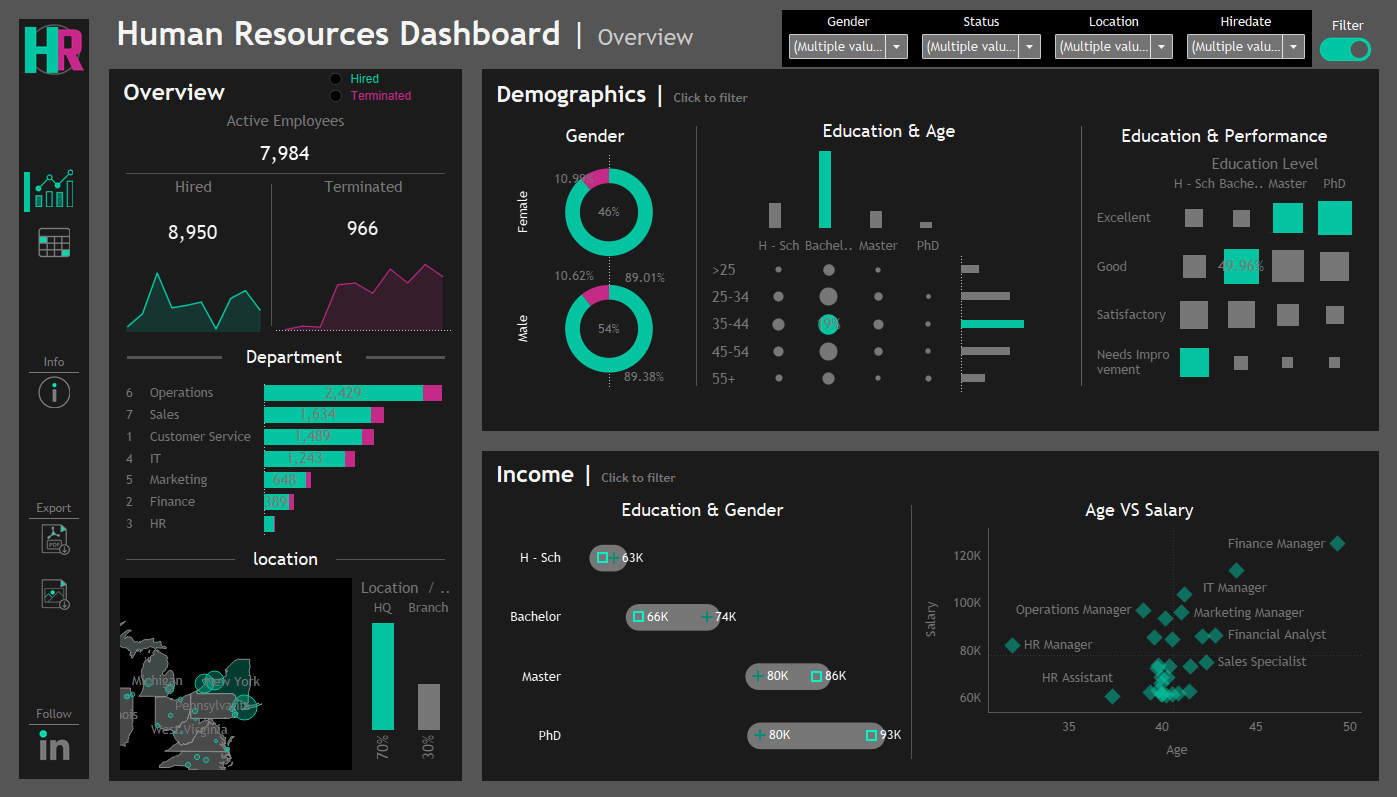

The page's visual inventory and layout, read from the dashboard file:
{"tool":"tableau","page":{"name":"HR | Dash Board ","canvas":[1400,800],"ordinal":0},"visuals":[{"type":"blank","box":[93,0,1305,216]},{"type":"text","box":[110,0,683,70]},{"type":"blank","box":[793,0,587,70]},{"type":"filter","title":"Gander vs Education","param":"[federated.0bgmnje15hprr71agptte040bgvo].[none:Gender:nk]","box":[783,11,133,57]},{"type":"filter","title":"Gander vs Education","param":"[federated.0bgmnje15hprr71agptte040bgvo].[none:Calculation_571957185363922944:nk","box":[916,11,133,57]},{"type":"filter","title":"Gander vs Education","param":"[federated.0bgmnje15hprr71agptte040bgvo].[none:Calculation_314689055595626501:nk","box":[1049,11,132,57]},{"type":"filter","title":"Gander vs Education","param":"[federated.0bgmnje15hprr71agptte040bgvo].[yr:Hiredate:ok]","box":[1181,11,132,57]},{"type":"text","box":[1299,12,100,30]},{"type":"image","param":"Image/Logo.png","box":[20,20,70,60]},{"type":"dashboard-object","box":[1320,22,52,58]},{"type":"text","box":[325,74,93,32]},{"type":"text","box":[117,77,339,32]},{"type":"text","box":[490,77,883,35]},{"type":"blank","box":[20,80,70,90]},{"type":"text","box":[117,109,339,26]},{"type":"blank","box":[697,117,1,280]},{"type":"text","box":[703,117,374,29]},{"type":"blank","box":[1082,117,1,280]},{"type":"text","box":[500,122,192,29]},{"type":"text","box":[1088,122,275,29]},{"type":"worksheet","title":"BAN Active","mark":"Text","box":[117,135,339,39]},{"type":"worksheet","title":"Education levels","mark":"Bar","rows":["Calculation_314689055568195584"],"cols":["Education Level"],"box":[703,146,374,87]},{"type":"worksheet","title":"Gender","mark":"Pie","rows":["Gender"],"cols":["Calculation_314689055654825992","Calculation_314689055654825992"],"box":[500,151,192,241]},{"type":"worksheet","title":"Education vs Perfomance ","mark":"Square","rows":["Performance Rating"],"cols":["Education Level"],"box":[1088,151,275,241]},{"type":"dashboard-object","box":[20,170,70,38]},{"type":"blank","box":[25,173,6,40]},{"type":"blank","box":[117,174,339,1]},{"type":"text","box":[117,175,155,26]},{"type":"blank","box":[272,175,1,162]},{"type":"text","box":[273,175,183,26]},{"type":"worksheet","title":"BAN Hired","mark":"Text","box":[117,201,155,65]},{"type":"worksheet","title":"BAN Terminated","mark":"Text","box":[273,201,183,57]},{"type":"blank","box":[20,208,70,15]},{"type":"text","box":[93,216,1305,304]},{"type":"dashboard-object","box":[20,223,70,40]},{"type":"worksheet","title":"Age vs Educations","mark":"Circle","rows":["Calculation_314689055659184138"],"cols":["Education Level"],"box":[703,233,255,164]},{"type":"worksheet","title":"Age Group","mark":"Bar","rows":["Calculation_314689055659184138"],"cols":["Calculation_314689055568195584"],"box":[958,233,71,164]},{"type":"worksheet","title":"Terminated By Year","mark":"Line","rows":["Calculation_314689055568519169","Calculation_314689055568519169"],"cols":["Termdate"],"box":[273,258,183,79]},{"type":"blank","box":[20,263,70,90]},{"type":"worksheet","title":"Hired By Year","mark":"Line","rows":["Calculation_314689055568195584","Calculation_314689055568195584"],"cols":["Hiredate"],"box":[117,266,155,71]},{"type":"blank","box":[128,342,95,32]},{"type":"text","box":[223,342,144,32]},{"type":"blank","box":[367,342,79,32]},{"type":"text","box":[20,353,70,20]},{"type":"blank","box":[20,373,70,1]},{"type":"dashboard-object","box":[20,374,70,35]},{"type":"worksheet","title":"Departments","mark":"Bar","rows":["Calculation_314689055594668036","Department"],"cols":["Calculation_314689055568195584"],"box":[117,379,339,161]},{"type":"blank","box":[20,409,70,90]},{"type":"text","box":[490,459,883,32]},{"type":"text","box":[495,496,417,29]},{"type":"blank","box":[912,496,1,274]},{"type":"text","box":[913,496,455,29]},{"type":"text","box":[20,499,70,20]},{"type":"blank","box":[20,519,70,1]},{"type":"dashboard-object","box":[20,520,70,40]},{"type":"blank","box":[93,520,1305,280]},{"type":"worksheet","title":"Gander vs Education","mark":"Square","rows":["Education Level"],"cols":["Salary","Salary"],"box":[495,525,417,245]},{"type":"worksheet","title":"Age vs Selery","mark":"Shape","rows":["Salary"],"cols":["Calculation_314689055658201097"],"box":[913,525,455,245]},{"type":"blank","box":[127,545,109,30]},{"type":"text","box":[236,545,101,30]},{"type":"blank","box":[337,545,109,30]},{"type":"blank","box":[20,560,70,15]},{"type":"dashboard-object","box":[20,575,70,40]},{"type":"worksheet","title":"Map States","mark":"Multipolygon","box":[117,575,240,200]},{"type":"worksheet","title":"Locations","mark":"Bar","rows":["Calculation_314689055568195584"],"cols":["Calculation_314689055595626501","Calculation1"],"box":[357,575,99,200]},{"type":"blank","box":[20,615,70,90]},{"type":"text","box":[20,705,70,20]},{"type":"blank","box":[20,725,70,1]},{"type":"image","param":"Image/contact-linkedin.png","box":[20,726,70,40]}]}

Visuals, with their boxes in screenshot pixels (x1, y1, x2, y2), scaled from the page's 1400x800 canvas onto the 1397x797 screenshot:
blank: <box>93,0,1395,215</box>
text: <box>110,0,791,70</box>
blank: <box>791,0,1377,70</box>
"Gander vs Education" filter: <box>781,11,914,68</box>
"Gander vs Education" filter: <box>914,11,1047,68</box>
"Gander vs Education" filter: <box>1047,11,1178,68</box>
"Gander vs Education" filter: <box>1178,11,1310,68</box>
text: <box>1296,12,1396,42</box>
image: <box>20,20,90,80</box>
dashboard-object: <box>1317,22,1369,80</box>
text: <box>324,74,417,106</box>
text: <box>117,77,455,109</box>
text: <box>489,77,1370,112</box>
blank: <box>20,80,90,169</box>
text: <box>117,109,455,134</box>
blank: <box>696,117,697,396</box>
text: <box>701,117,1075,145</box>
blank: <box>1080,117,1081,396</box>
text: <box>499,122,691,150</box>
text: <box>1086,122,1360,150</box>
"BAN Active" worksheet (Text marks): <box>117,134,455,173</box>
"Education levels" worksheet (Bar marks): <box>701,145,1075,232</box>
"Gender" worksheet (Pie marks): <box>499,150,691,391</box>
"Education vs Perfomance " worksheet (Square marks): <box>1086,150,1360,391</box>
dashboard-object: <box>20,169,90,207</box>
blank: <box>25,172,31,212</box>
blank: <box>117,173,455,174</box>
text: <box>117,174,271,200</box>
blank: <box>271,174,272,336</box>
text: <box>272,174,455,200</box>
"BAN Hired" worksheet (Text marks): <box>117,200,271,265</box>
"BAN Terminated" worksheet (Text marks): <box>272,200,455,257</box>
blank: <box>20,207,90,222</box>
text: <box>93,215,1395,518</box>
dashboard-object: <box>20,222,90,262</box>
"Age vs Educations" worksheet (Circle marks): <box>701,232,956,396</box>
"Age Group" worksheet (Bar marks): <box>956,232,1027,396</box>
"Terminated By Year" worksheet (Line marks): <box>272,257,455,336</box>
blank: <box>20,262,90,352</box>
"Hired By Year" worksheet (Line marks): <box>117,265,271,336</box>
blank: <box>128,341,223,373</box>
text: <box>223,341,366,373</box>
blank: <box>366,341,445,373</box>
text: <box>20,352,90,372</box>
blank: <box>20,372,90,373</box>
dashboard-object: <box>20,373,90,407</box>
"Departments" worksheet (Bar marks): <box>117,378,455,538</box>
blank: <box>20,407,90,497</box>
text: <box>489,457,1370,489</box>
text: <box>494,494,910,523</box>
blank: <box>910,494,911,767</box>
text: <box>911,494,1365,523</box>
text: <box>20,497,90,517</box>
blank: <box>20,517,90,518</box>
dashboard-object: <box>20,518,90,558</box>
blank: <box>93,518,1395,796</box>
"Gander vs Education" worksheet (Square marks): <box>494,523,910,767</box>
"Age vs Selery" worksheet (Shape marks): <box>911,523,1365,767</box>
blank: <box>127,543,235,573</box>
text: <box>235,543,336,573</box>
blank: <box>336,543,445,573</box>
blank: <box>20,558,90,573</box>
dashboard-object: <box>20,573,90,613</box>
"Map States" worksheet (Multipolygon marks): <box>117,573,356,772</box>
"Locations" worksheet (Bar marks): <box>356,573,455,772</box>
blank: <box>20,613,90,702</box>
text: <box>20,702,90,722</box>
blank: <box>20,722,90,723</box>
image: <box>20,723,90,763</box>
